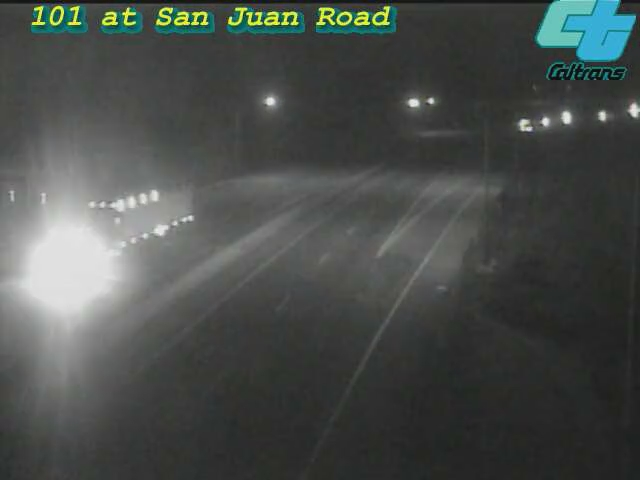vehicle: (71, 192, 151, 272), (581, 91, 631, 141), (498, 102, 548, 152), (538, 94, 588, 144), (520, 96, 570, 146), (608, 85, 640, 135)
